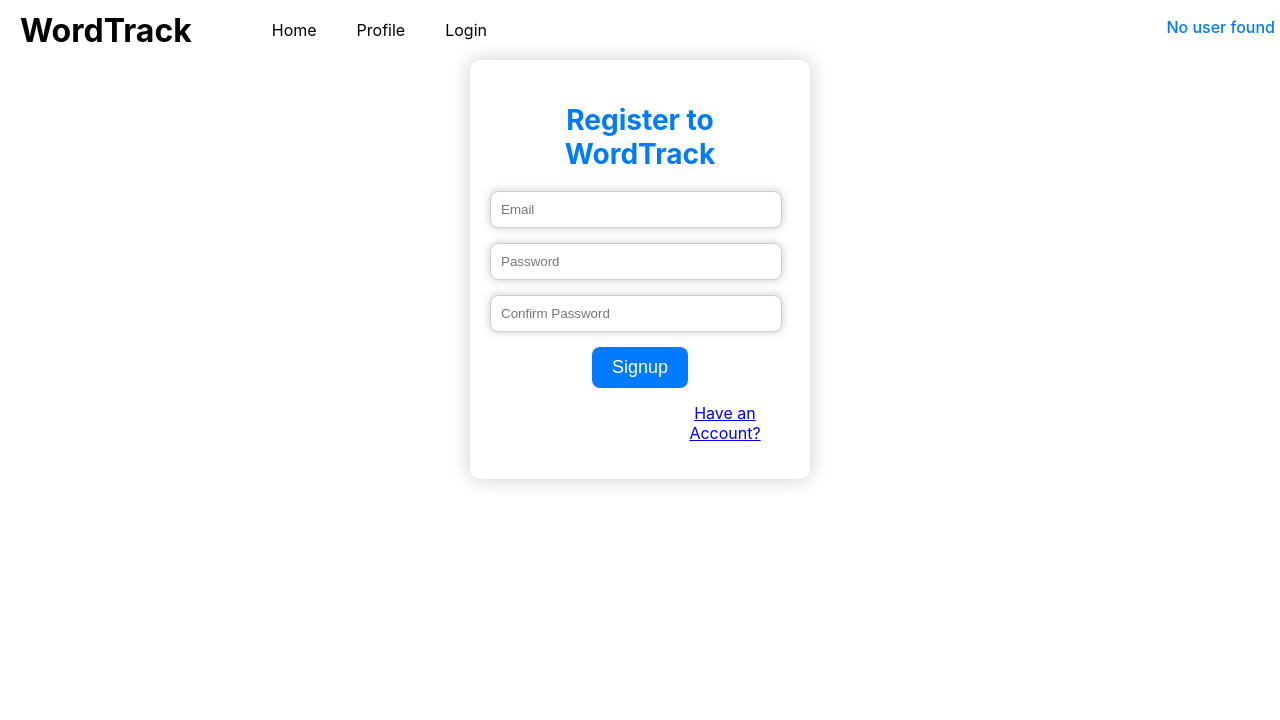
Test: invalid email input signup test: empty email › should show error message and not redirect to home
What coordinates should you click on to do the following:
click the button with test id "btn-signup"
I would click on:
 (640, 368)
Its box is [592,347,688,388].
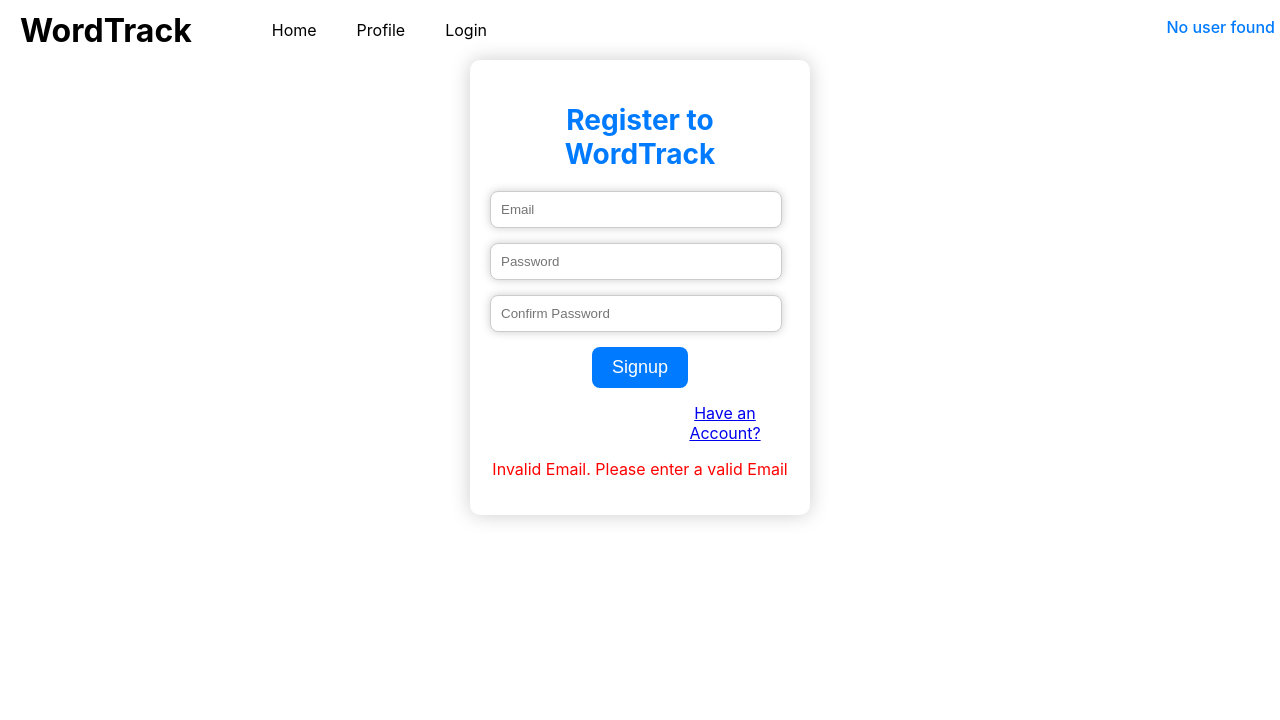
Expected: the text "Invalid Email. Please enter a valid Email" is shown, [490,459,790,479]
